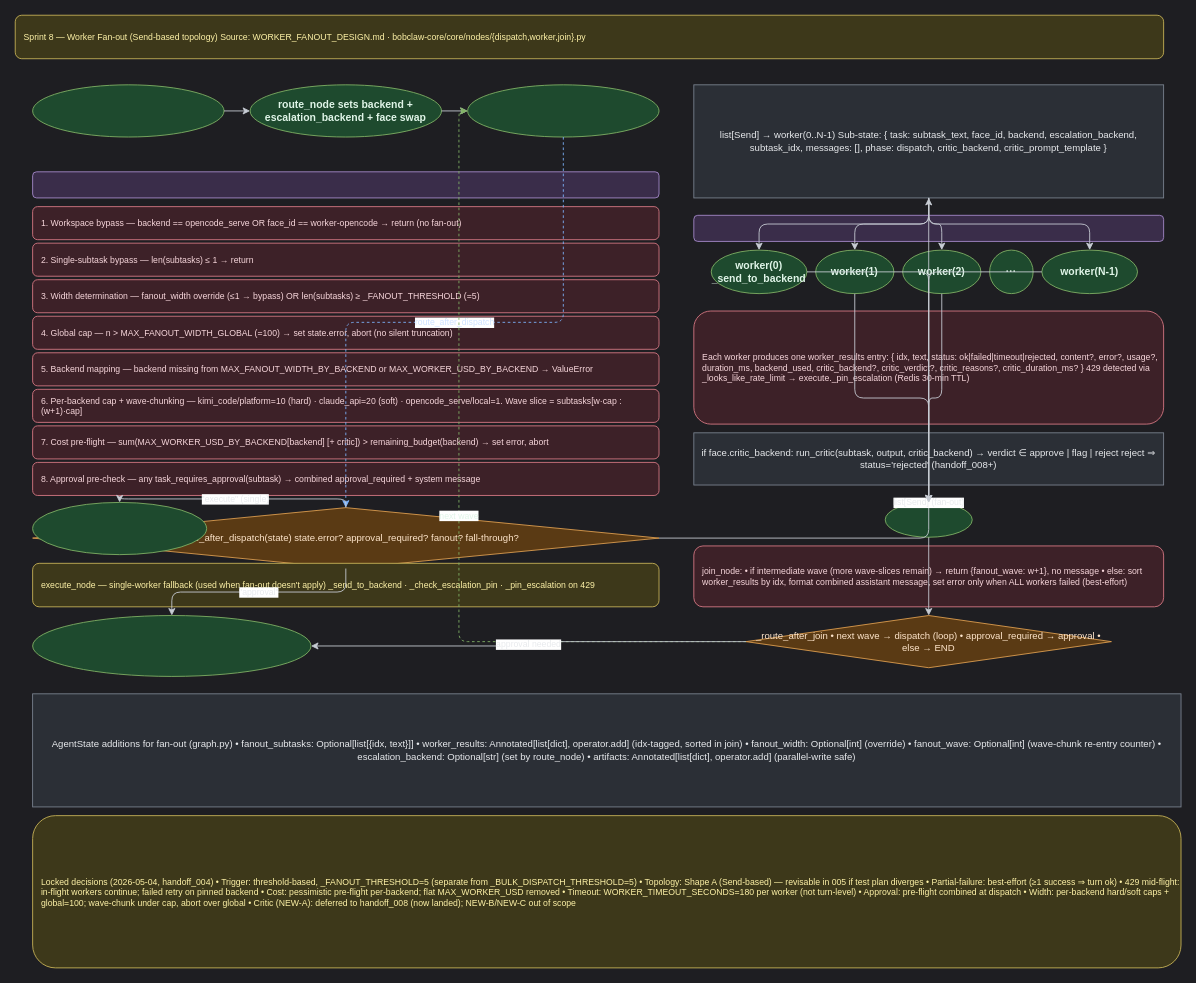
This 1196x983 diagram has some shape labels left out. Each missing label, with the box of its shape:
approval_node interrupt_before=[approval] resume via /api/chat/approval: (32, 615, 311, 676)
decompose_node produces subtasks: list[str]: (32, 84, 224, 137)
dispatch_node (state-mutation pre-flight): (467, 84, 659, 137)
dispatch_node — ordered pre-flight (handoffs 005-008): (32, 171, 659, 198)
execute_node (single-worker path): (32, 502, 207, 555)
join_node: (884, 502, 972, 537)
worker_node × N (parallel, asyncio.wait_for, WORKER_TIMEOUT_SECONDS=180): (693, 214, 1164, 241)
